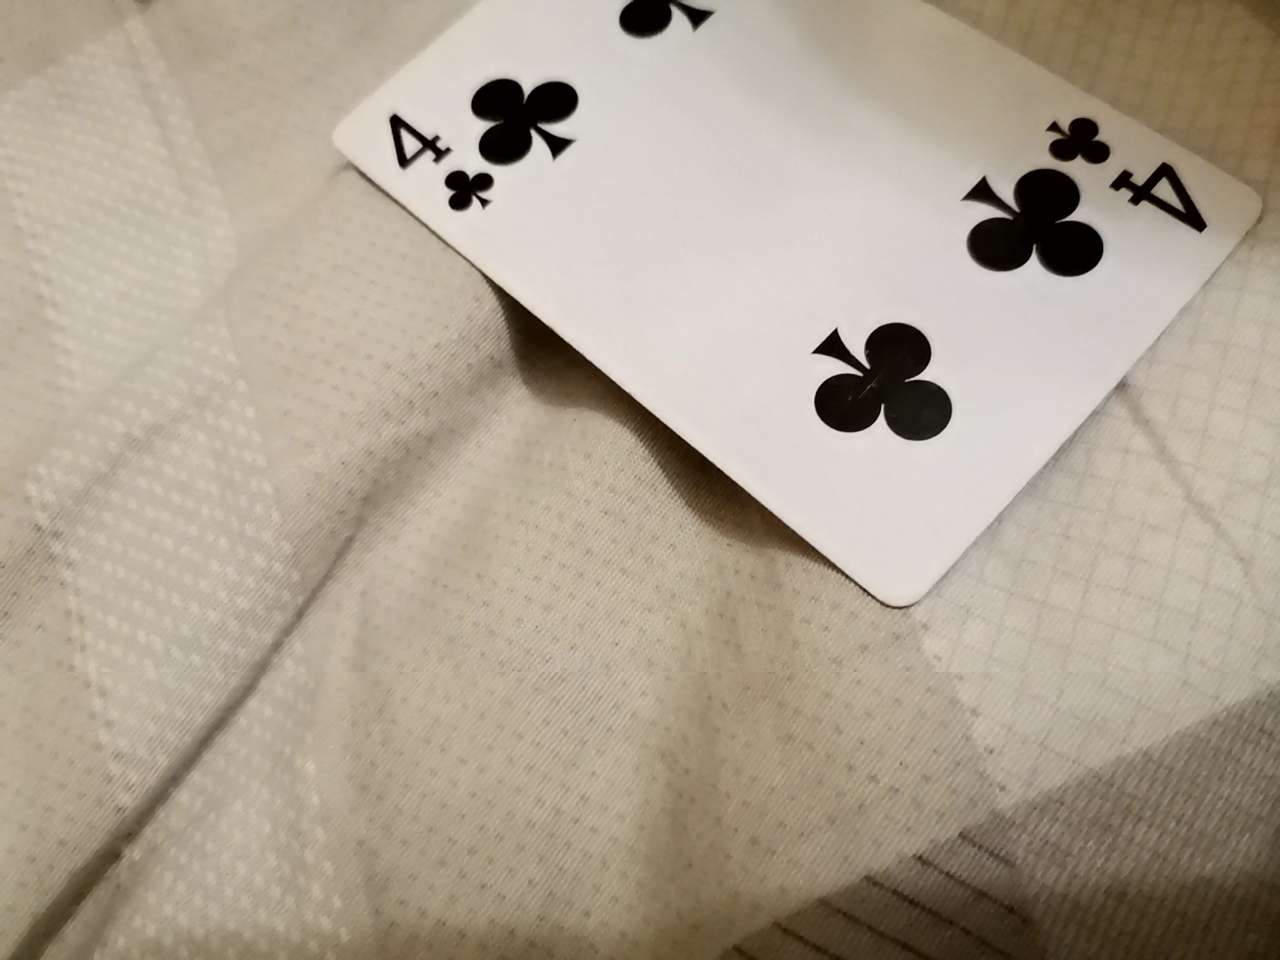mh 4: (305, 0, 1270, 601)
